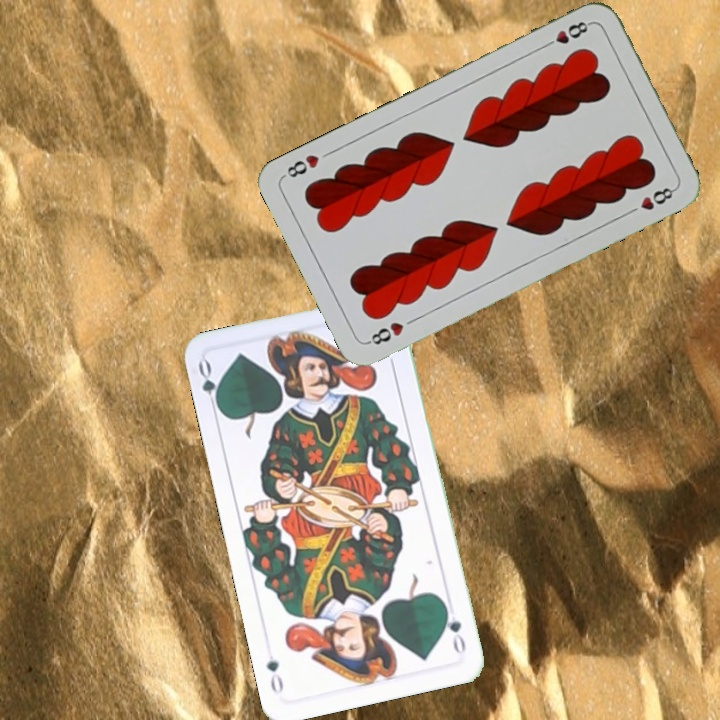GO: (194, 356, 224, 416), (440, 600, 469, 657)
H8: (539, 17, 594, 51), (363, 318, 407, 348)
